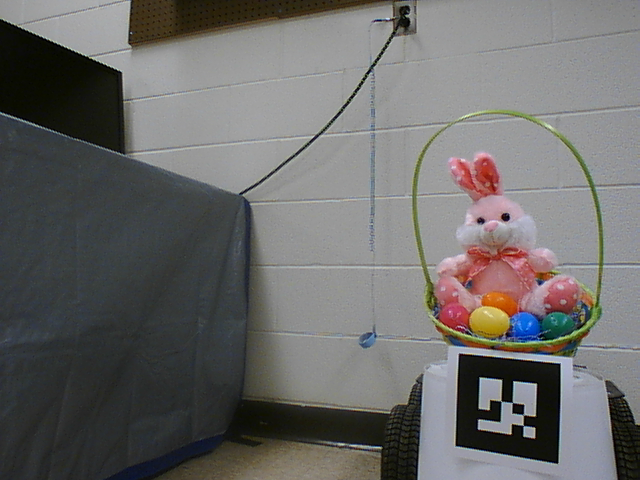bunny: (394, 109, 605, 369)
